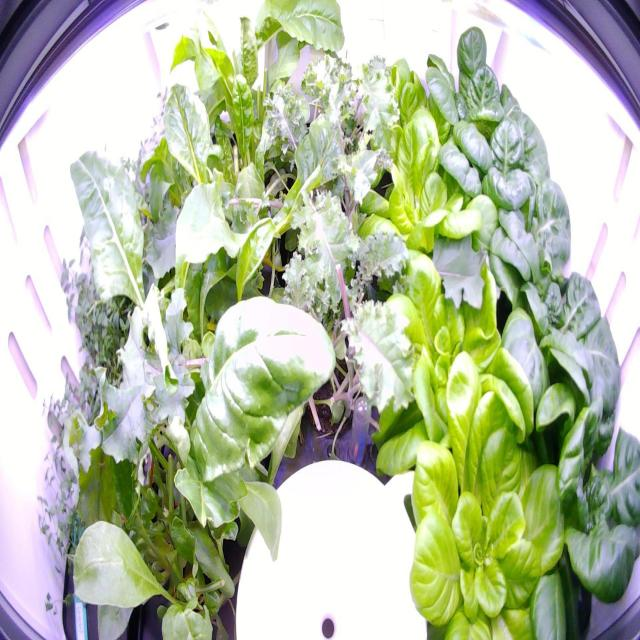young: (377, 352, 569, 640), (362, 222, 536, 464), (524, 380, 640, 635), (487, 259, 628, 464), (443, 110, 577, 292), (354, 104, 486, 264), (418, 20, 547, 161), (340, 47, 453, 182)
